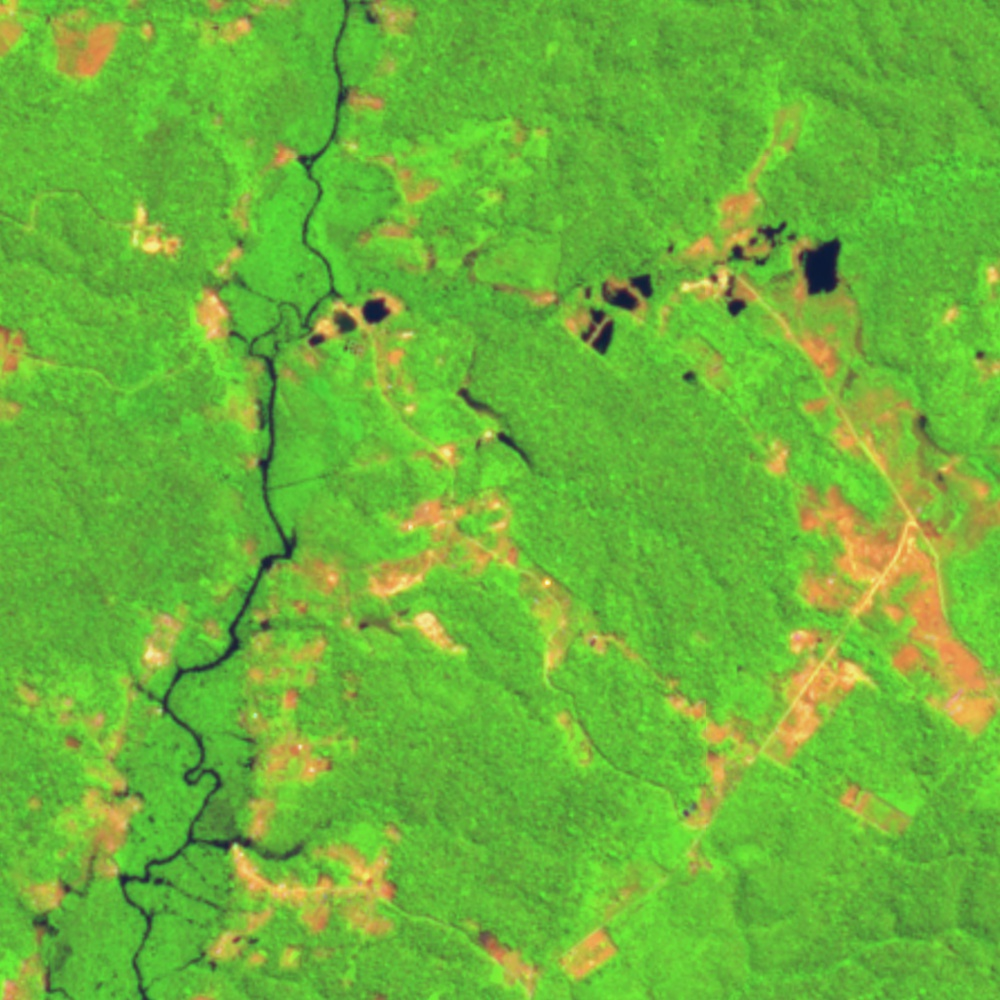legal: (797, 308, 1000, 729), (1, 604, 186, 998), (186, 815, 410, 998), (664, 103, 851, 321), (355, 115, 552, 316), (242, 550, 369, 816), (180, 137, 306, 358), (469, 870, 648, 1000), (367, 485, 522, 604), (277, 287, 421, 414), (757, 623, 877, 762), (516, 561, 641, 688), (663, 676, 753, 840), (683, 346, 794, 478), (1, 1, 162, 84), (560, 267, 657, 368), (450, 380, 540, 479), (224, 342, 268, 475), (831, 771, 911, 841), (352, 1, 421, 80), (368, 612, 475, 661), (1, 320, 48, 423), (200, 1, 291, 51), (120, 203, 189, 261), (555, 703, 595, 773), (338, 83, 387, 111), (979, 263, 1000, 291)
